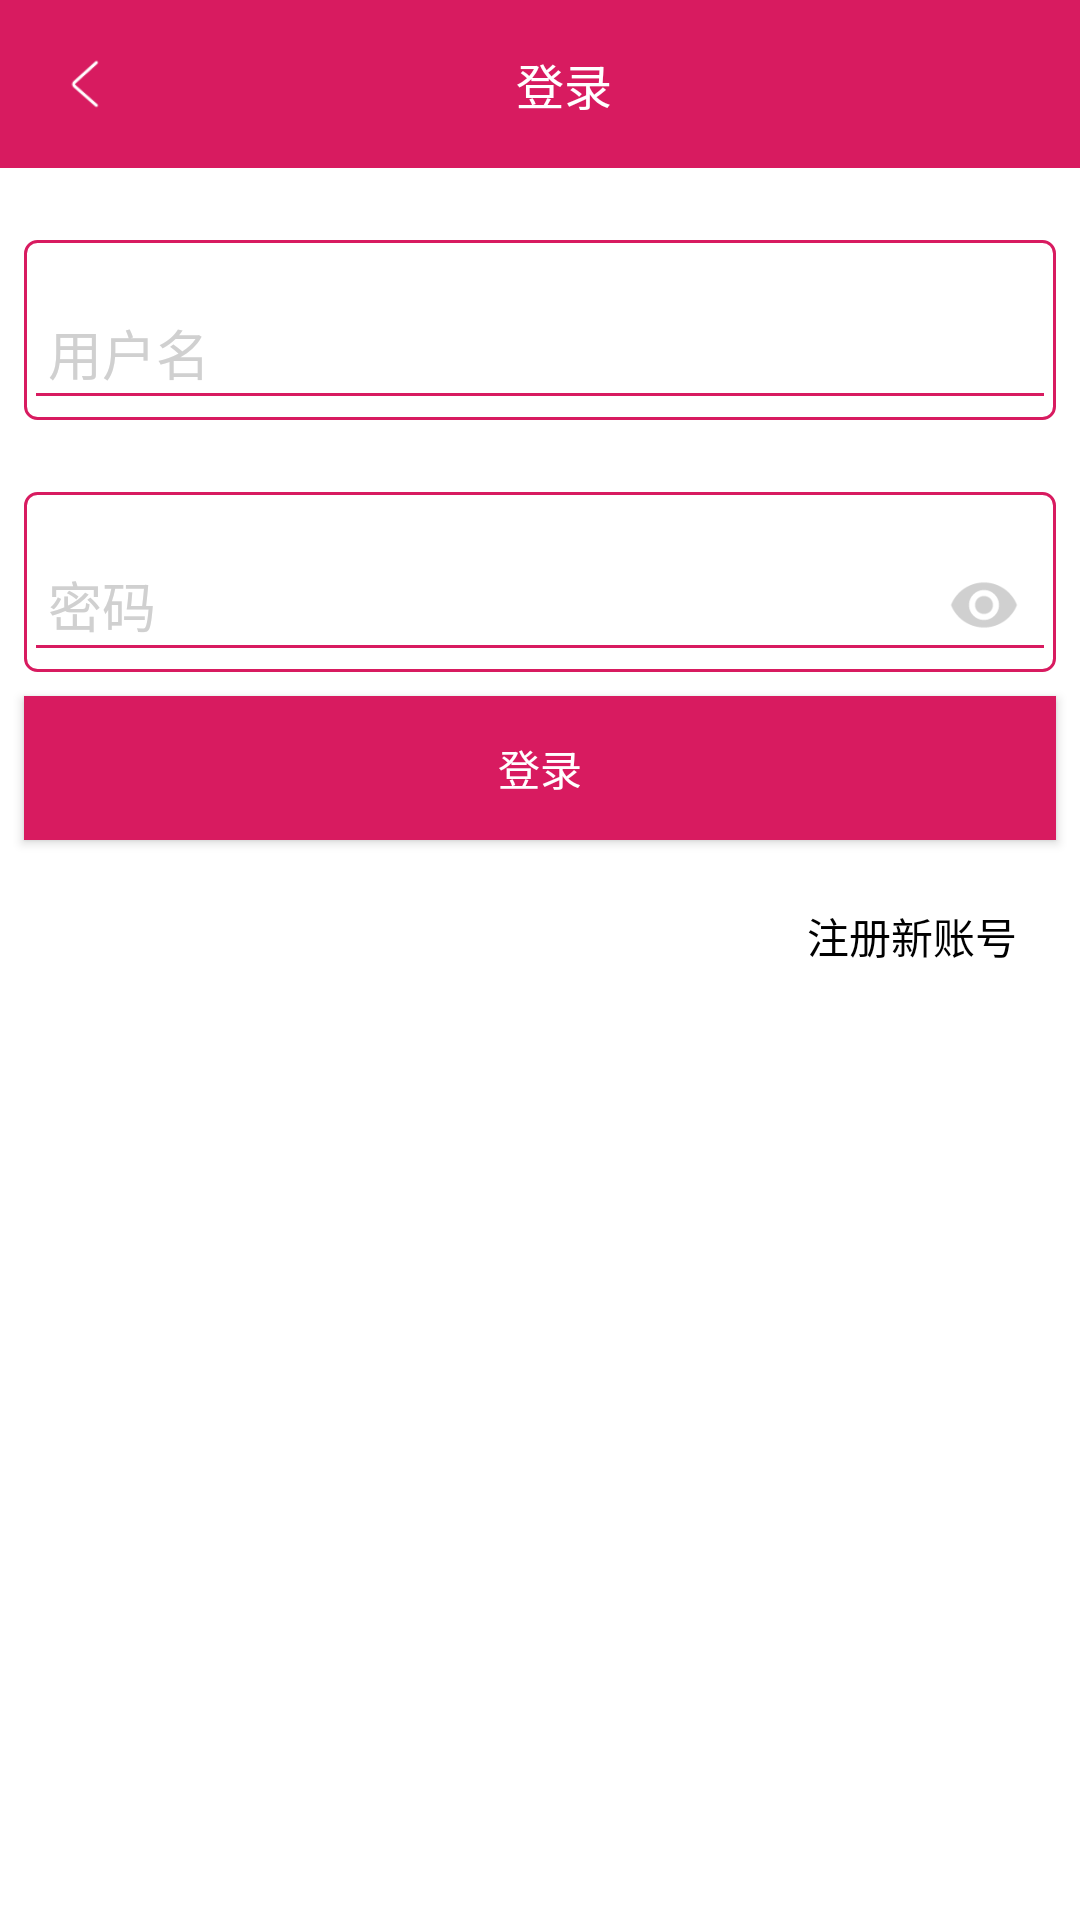

Point at icon controls on the screen. Image size 1080x1920, points as [x,y].
后退: [85,84]
